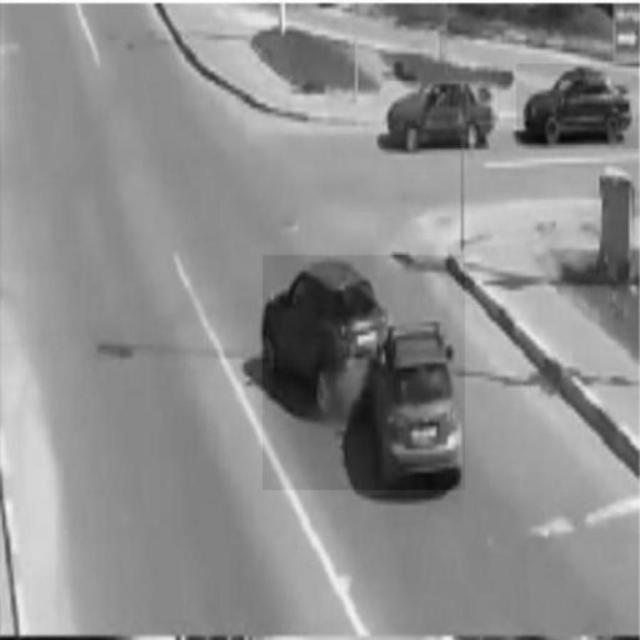accident: (263, 255, 465, 489)
vehicle: (516, 64, 638, 148), (380, 82, 498, 146)
